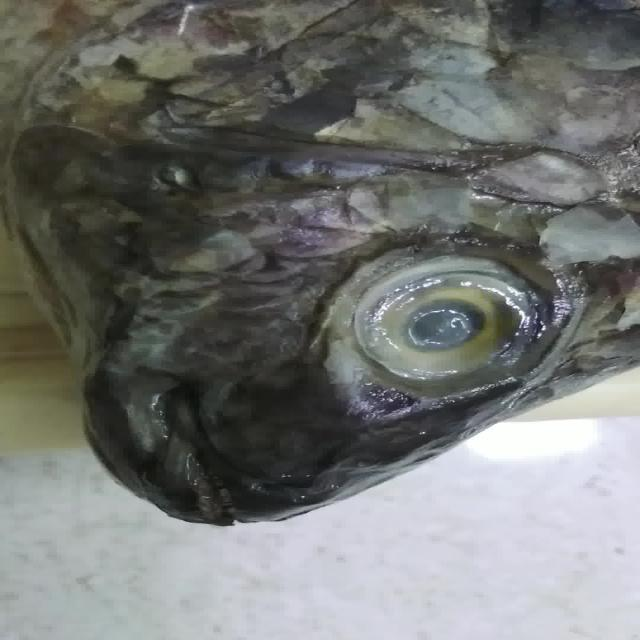Non-Fresh: (324, 244, 557, 406)
